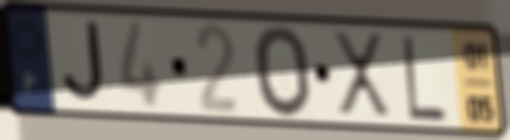2: (192, 20, 242, 117)
4: (117, 16, 169, 114)
J: (60, 19, 109, 106)
L: (399, 32, 450, 125)
O: (251, 22, 316, 121)
X: (329, 27, 394, 124)
